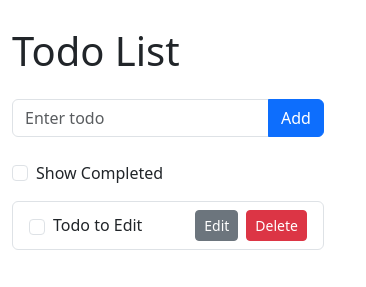
Todo App Integration Tests › edits a todo
expect the text "Todo to Edit" is shown: met, box [53,213,142,237]
Click the button "Edit" at (217, 225), box [195,210,238,240]
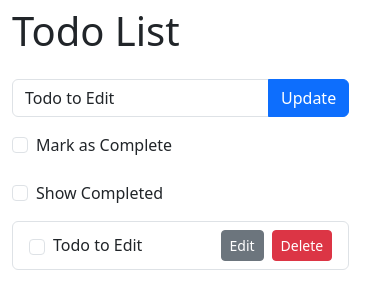
Replace the text in the field showing "Todo to Edit" with "Edited Todo" at (140, 98), box [12,78,269,116]
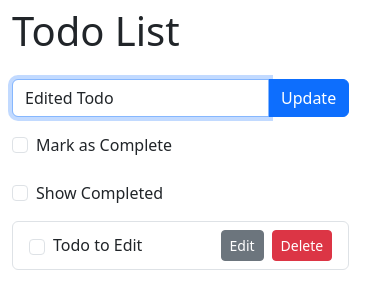
Click the button "Update" at (309, 98), box [268,78,349,116]
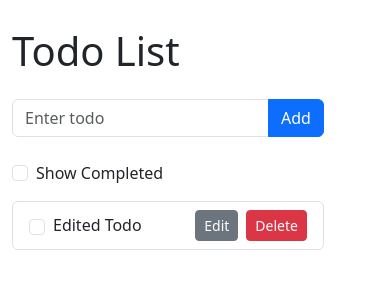
expect the text "Edited Todo" is shown: met, box [53,213,142,237]
expect the text "Todo to Edit" is gone: met
